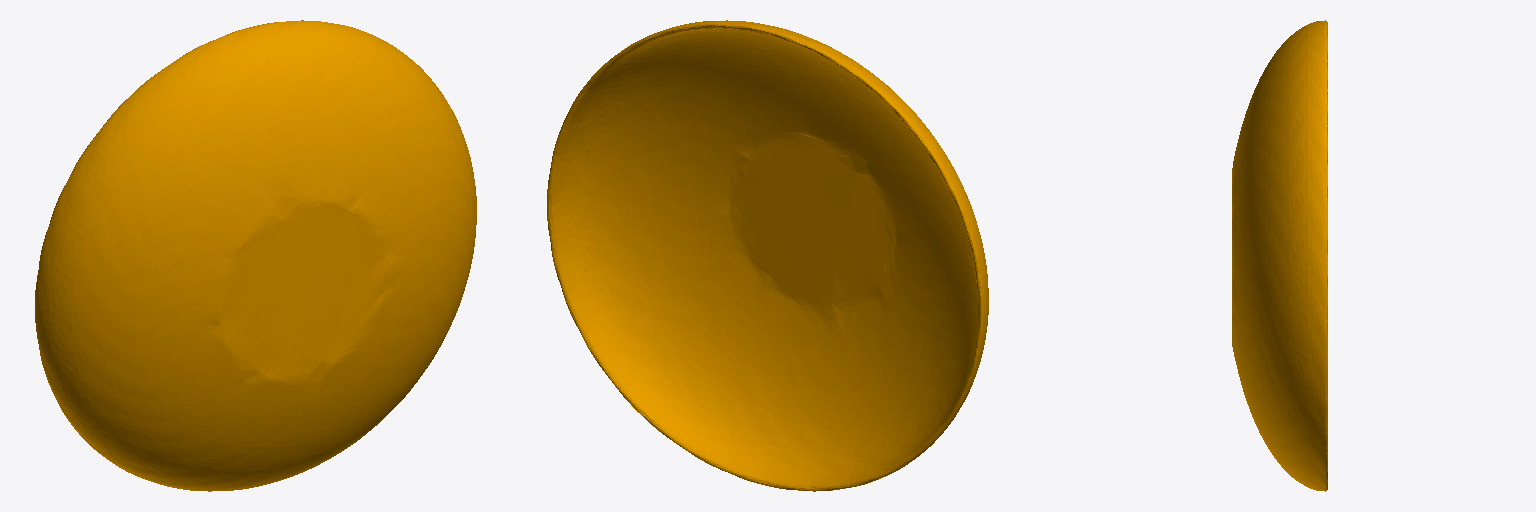
robot.urdf — bowl:
<?xml version="1.0"?>
<robot name="bowl">
  <link name="bowl">
    <visual>
      <origin xyz="0 0 0"/>
      <geometry>
        <mesh filename="package://test_obj_description/meshes/collision/bowl.obj" scale="0.1 0.1 0.1"/>
      </geometry>
    </visual>
    <collision>
      <origin xyz="0 0 0"/>
      <geometry>
        <mesh filename="package://test_obj_description/meshes/collision/bowl.obj" scale="0.1 0.1 0.1"/>
      </geometry>
    </collision>
    <inertial>
      <mass value="10"/>
      <inertia ixx="1.0" ixy="0.0" ixz="0.0" iyy="1.0" iyz="0.0" izz="1.0"/>
    </inertial>
  </link>
</robot>

--- Facts derived from the render (not from the file) ---
Views: 3 orthographic renders of the robot side by side, from view 1: azimuth 30°, elevation 25°; view 2: azimuth 150°, elevation 25°; view 3: azimuth 270°, elevation 25°.
Model bowl with 1 links and 0 joints (none), rooted at bowl, posed all joints at 0.
Visible links, largest first — view 1: bowl; view 2: bowl; view 3: bowl.
Boxes of the visible links, x1,y1,x2,y2 form: bowl: (35, 20, 476, 491); bowl: (547, 20, 988, 491); bowl: (1232, 20, 1327, 491).
Bounding box of the posed robot: 0.1977 × 0.0401 × 0.1977 m (x, y, z).
Meshes: 1 distinct files referenced, 1 mesh visuals loaded (1 OBJ).